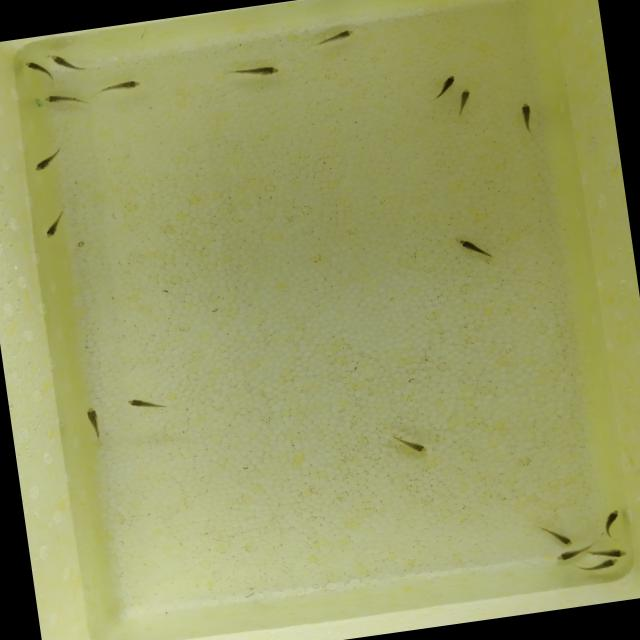fingerling: (452, 232, 502, 268), (530, 518, 576, 552), (386, 428, 433, 460), (223, 61, 286, 84), (309, 24, 361, 50), (29, 144, 68, 176), (34, 88, 88, 111), (80, 403, 108, 444), (96, 76, 148, 98), (125, 392, 172, 416), (421, 74, 458, 104), (514, 99, 540, 141), (40, 205, 70, 241), (599, 507, 626, 542), (50, 50, 84, 74), (572, 558, 620, 574), (587, 544, 629, 562), (457, 88, 477, 120), (550, 547, 586, 563), (22, 58, 48, 80)
